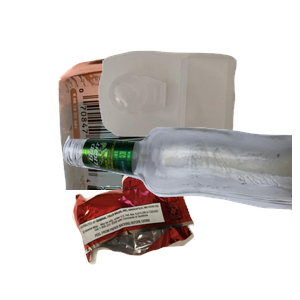glass: (60, 124, 300, 300)
metal: (56, 52, 242, 232)
plastic: (96, 48, 300, 179)
trash: (70, 162, 257, 300)
